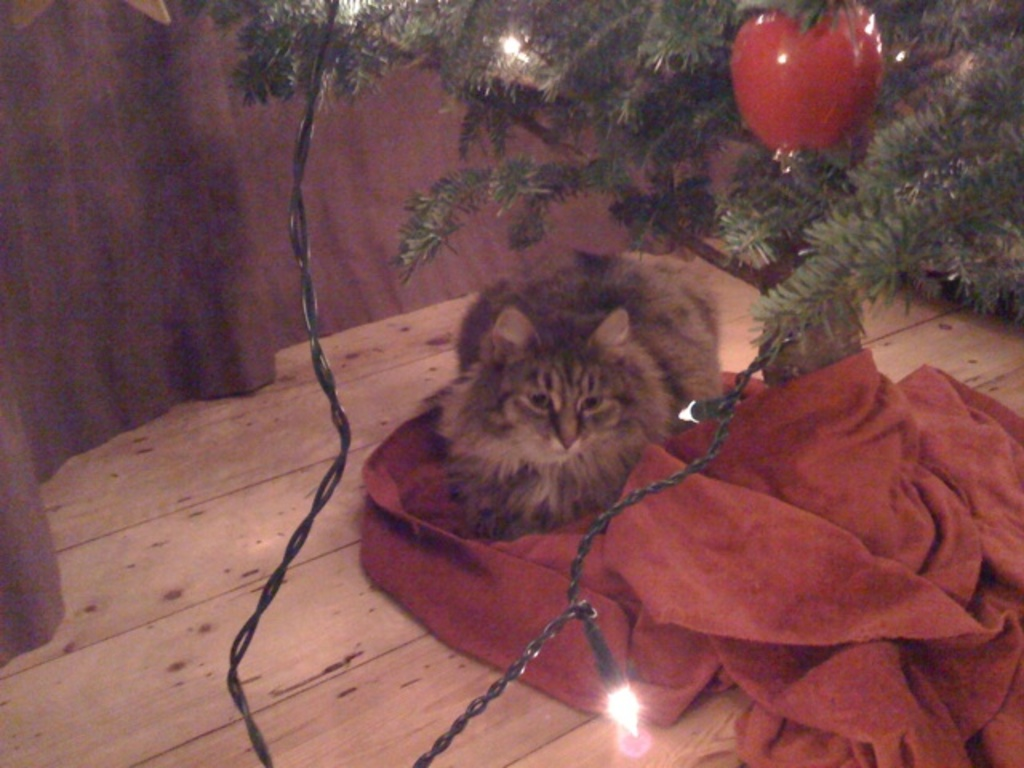Apple: (740, 12, 884, 179)
